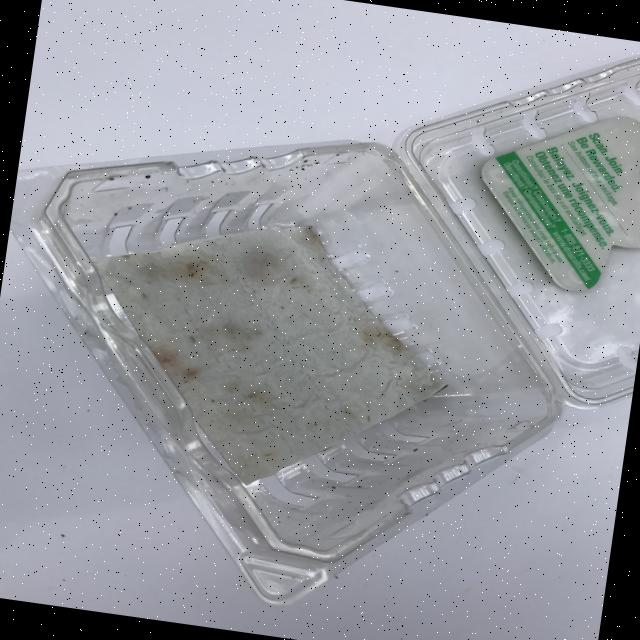plastic: (0, 116, 640, 594)
